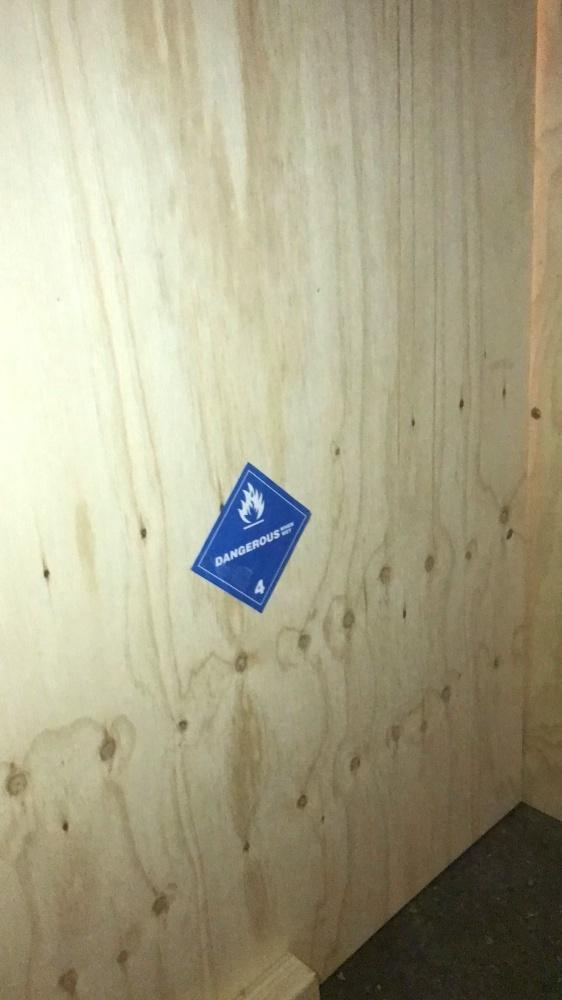dangerous-when-wet: (192, 464, 316, 618)
